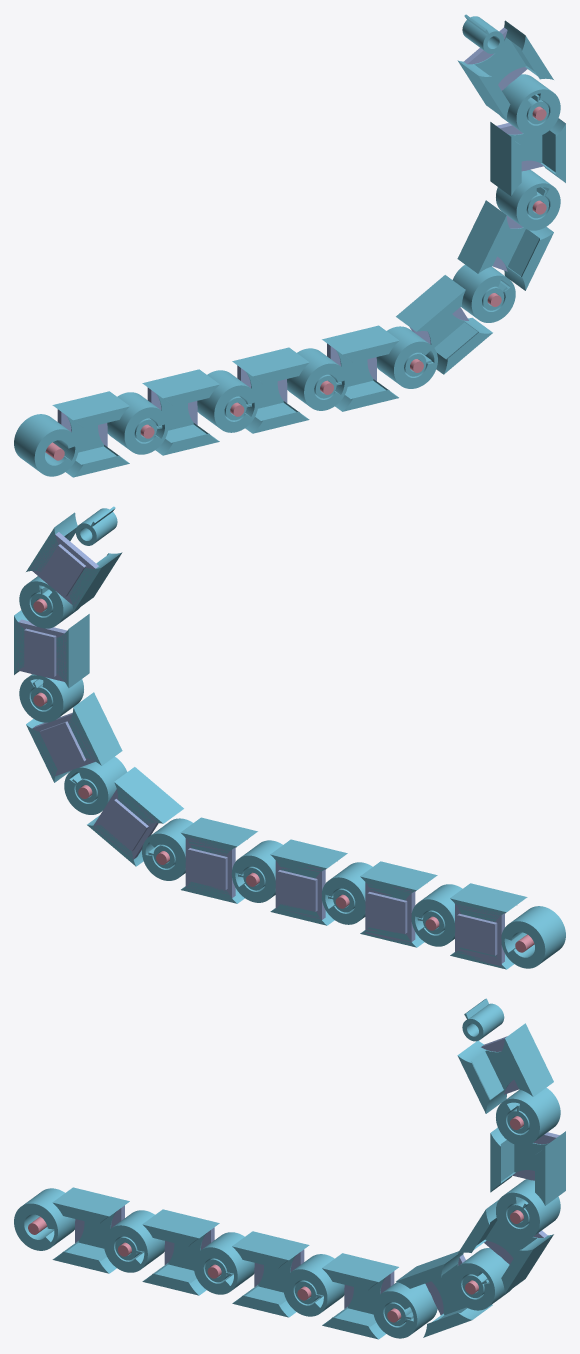
File: drag_chain_demo.glb
The picture shows the model from 3 angles, top to bottom: view 1: azimuth 30°, elevation 25°; view 2: azimuth 150°, elevation 25°; view 3: azimuth 330°, elevation 25°; orthographic projection.
Parts seen in each view (by area): view 1: link_05, link_04, link_00, link_07, link_06, link_03, link_01, link_02, lid_07; view 2: link_00, link_05, link_04, link_07, link_06, link_02, link_03, link_01, lid_00, lid_06, lid_07, lid_03 (+4 smaller); view 3: link_07, link_00, link_06, link_03, link_02, link_01, link_05, link_04.
Part boxes in pixels (x1,y1,x2,y2): link_05: [453, 187, 553, 322]; link_04: [376, 275, 507, 388]; link_00: [14, 391, 162, 477]; link_07: [457, 14, 560, 136]; link_06: [490, 94, 565, 230]; link_03: [287, 325, 431, 411]; link_01: [107, 369, 251, 455]; link_02: [197, 347, 341, 433]; lid_07: [464, 27, 527, 90]; link_00: [417, 883, 565, 969]; link_05: [26, 679, 126, 814]; link_04: [72, 767, 192, 880]; link_07: [19, 506, 122, 628]; link_06: [14, 586, 89, 722]; link_02: [238, 839, 372, 925]; link_03: [148, 817, 282, 903]; link_01: [328, 861, 462, 947]; lid_00: [455, 903, 504, 966]; lid_06: [16, 619, 66, 682]; lid_07: [30, 532, 98, 606]; lid_03: [185, 836, 235, 899]; link_07: [457, 998, 560, 1145]; link_00: [14, 1187, 144, 1273]; link_06: [490, 1103, 565, 1239]; link_03: [283, 1253, 413, 1339]; link_02: [193, 1231, 323, 1317]; link_01: [103, 1209, 233, 1295]; link_05: [451, 1199, 553, 1310]; link_04: [373, 1251, 492, 1338].
Size of the model in its own units: 118 by 73.9 by 10.
